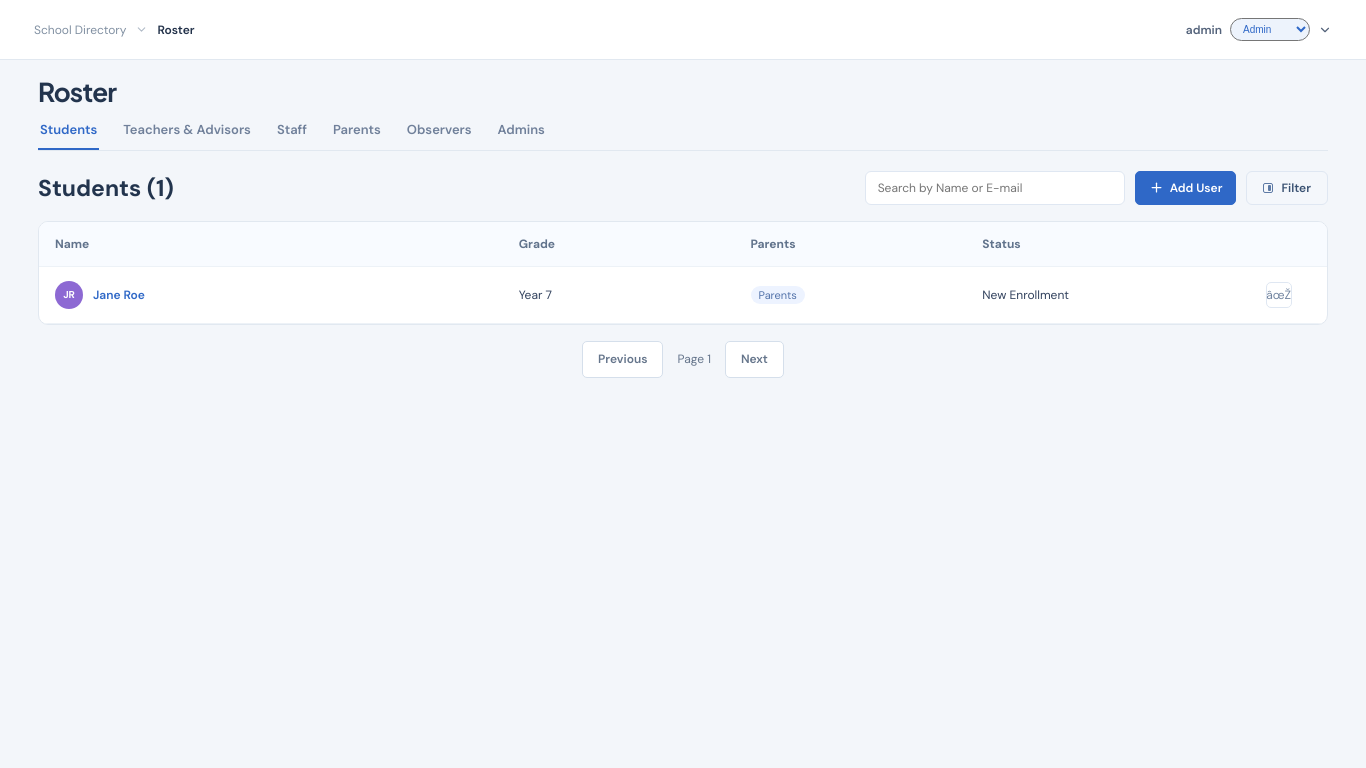
Test: RosterPage › edits a student by clicking the name on the Students tab
Click the button "Jane Roe" at (119, 295), box 93,287 -> 145,303
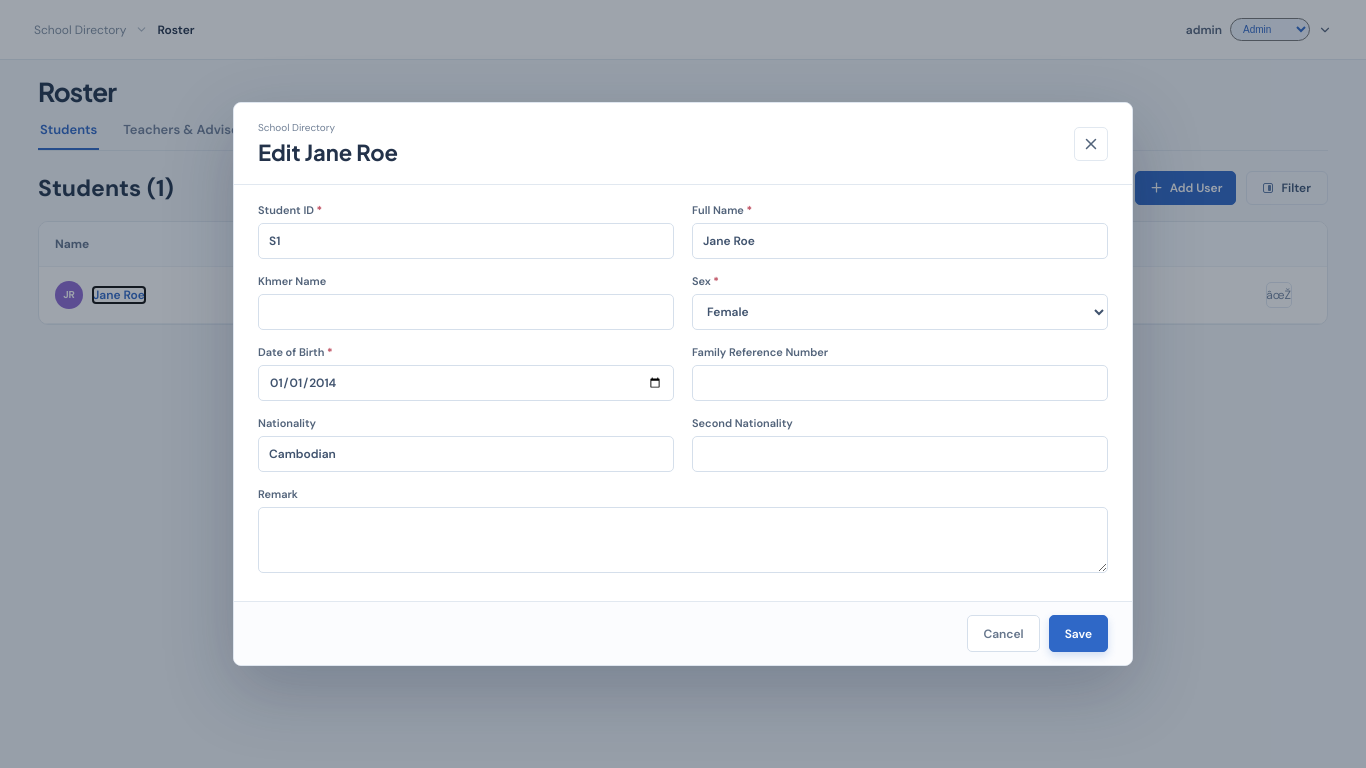
Now the field labelled "Nationality" holds "Cambodian", box 258,436 -> 674,472
Type "Khmer Jane" into the field labelled "Khmer Name" at (466, 312), box 258,294 -> 674,330
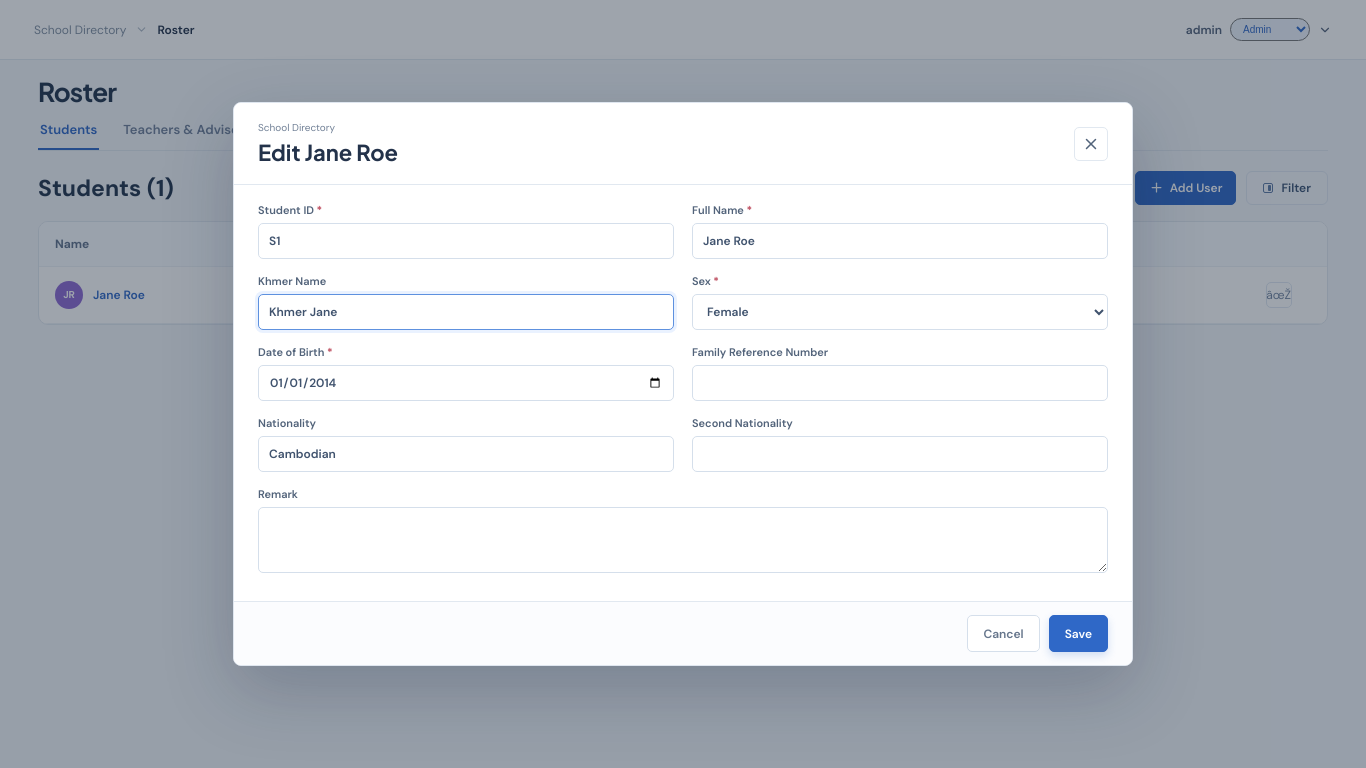
Click the button "Save" at (1078, 634), box 1049,615 -> 1108,652
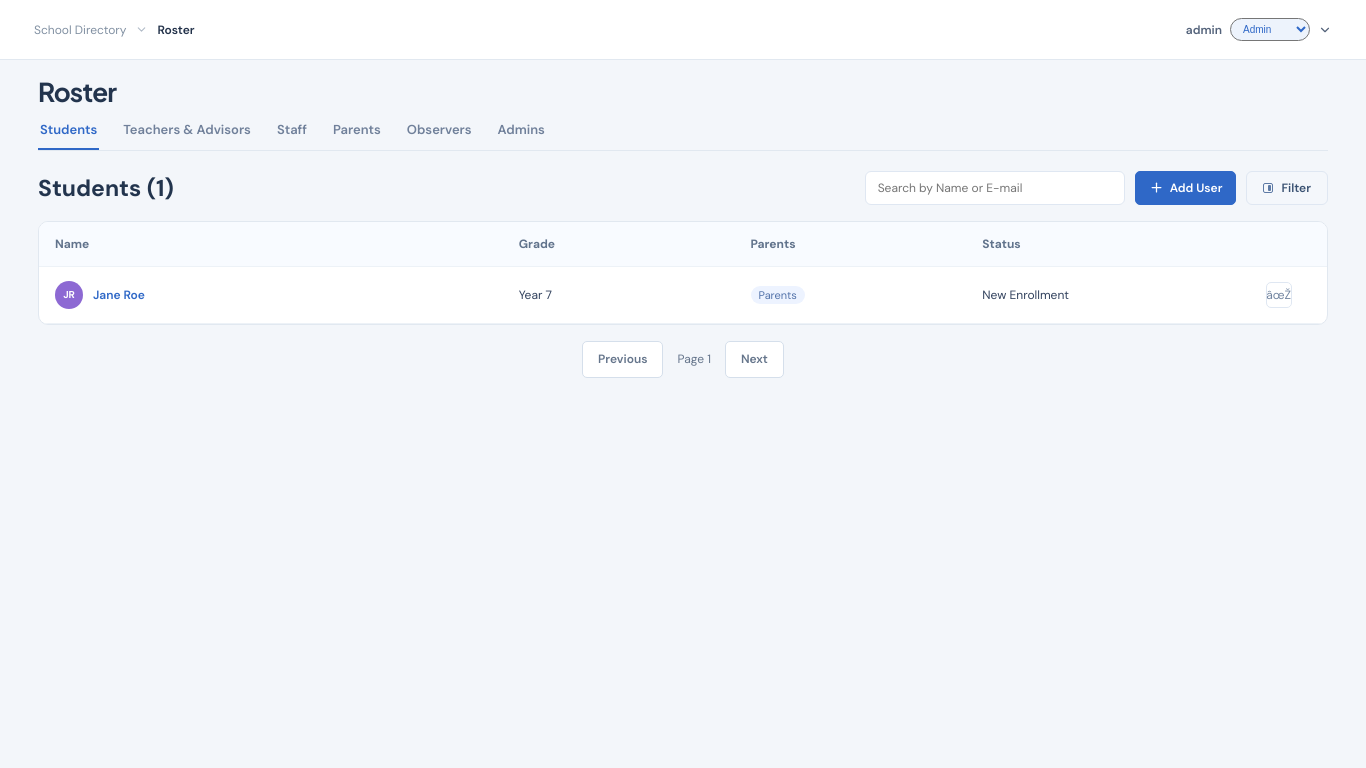
Now the dialog is gone
